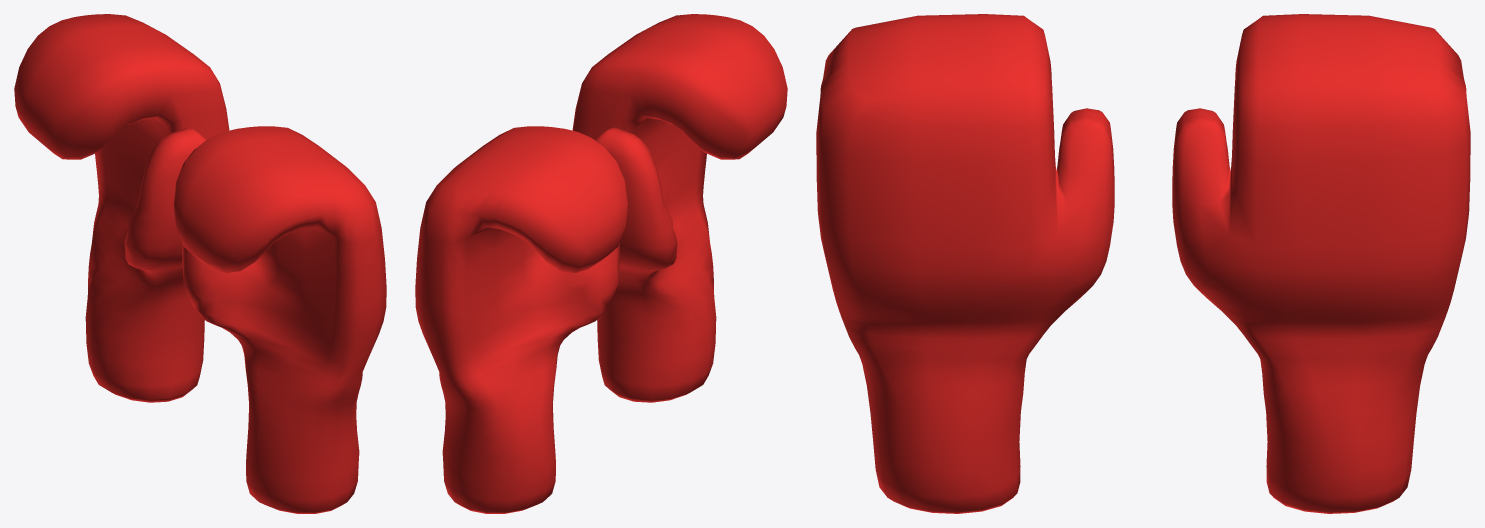
File: dwie rękawice bokserskie .fbx
3 renders of one model, left to right at view 1: azimuth 30°, elevation 25°; view 2: azimuth 150°, elevation 25°; view 3: azimuth 270°, elevation 25°, orthographic. The views are drawn at different scales.
Parts seen in each view (by area): view 1: Cube, Cube.015; view 2: Cube.015, Cube; view 3: Cube.015, Cube.
Part boxes in pixels (left/top/right/bottom): Cube: left=173, top=126, right=386, bottom=513; Cube.015: left=14, top=14, right=229, bottom=402; Cube.015: left=415, top=126, right=628, bottom=513; Cube: left=572, top=14, right=787, bottom=402; Cube.015: left=1172, top=14, right=1470, bottom=513; Cube: left=816, top=14, right=1114, bottom=513.
Bounding box in the file's own units: 431 × 860 × 1155.
